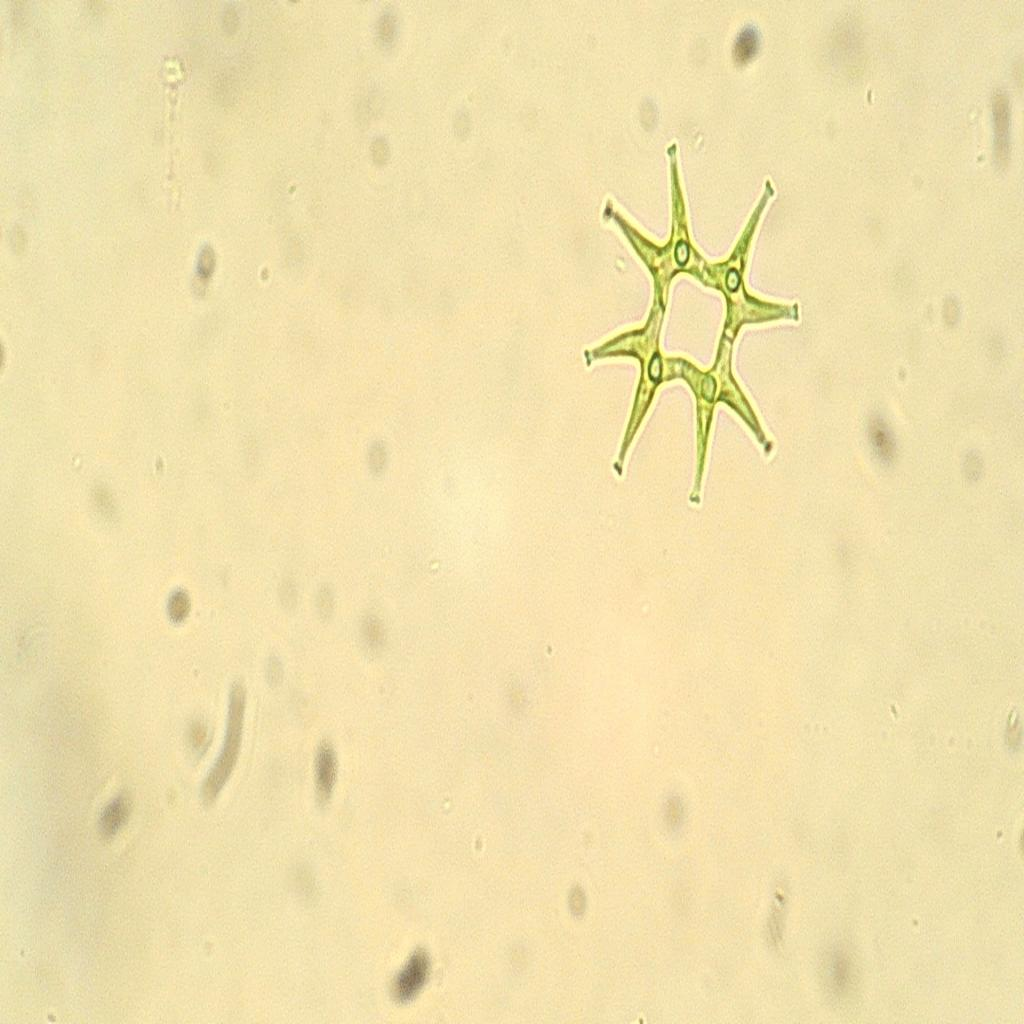Pediastrum_10: (560, 127, 811, 518)
